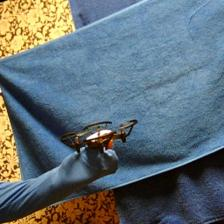drone: (59, 119, 141, 156)
